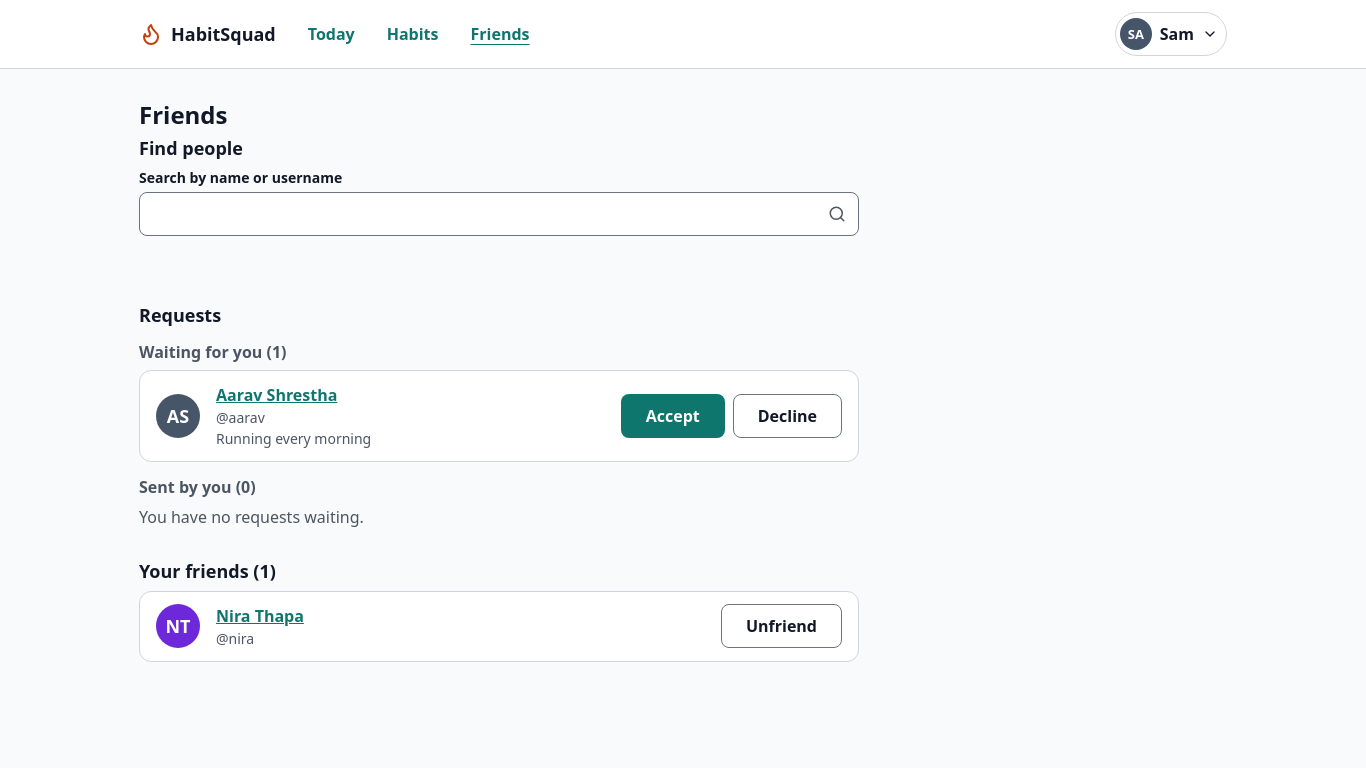
Test: FriendsPage › has no accessibility problems, with lists and search results
The width and height of the screenshot is (1366, 768).
Expected: the heading "Your friends (1)" is shown, 139,559 -> 276,583
In the search field labelled "Search by name or username": (484, 214) 140,194 -> 828,234, type "ma"
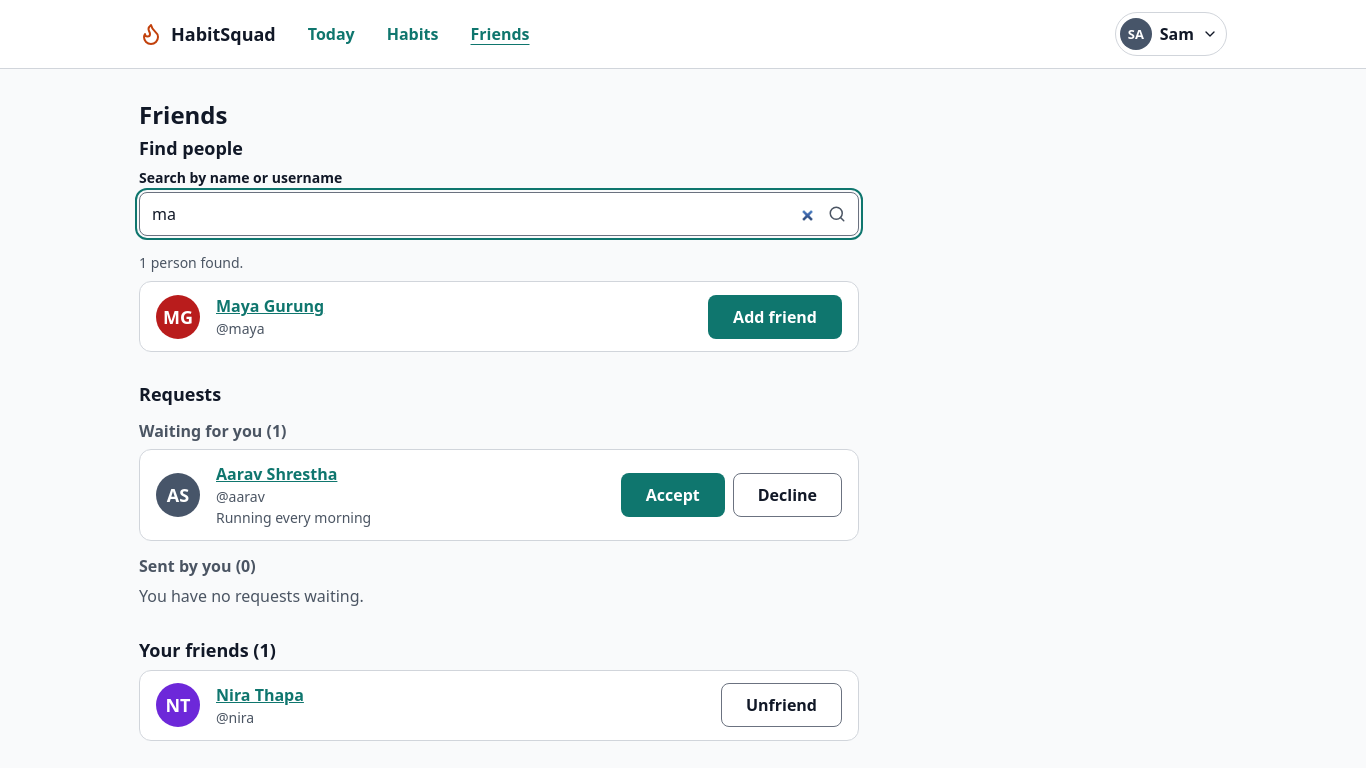
Expected: the list named "Search results" is shown, 139,281 -> 859,352
